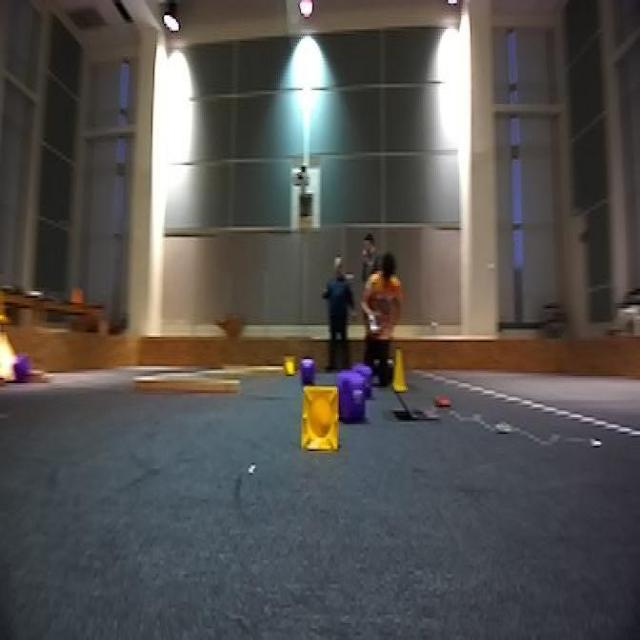frc_cone: (299, 381, 347, 460), (388, 349, 409, 390), (282, 351, 299, 378)
frc_cube: (342, 372, 368, 418), (10, 356, 30, 386), (356, 368, 374, 393), (297, 356, 316, 378)
